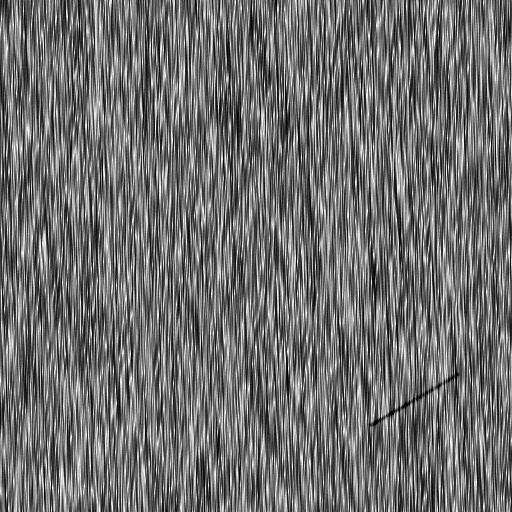DefectTypeC: (371, 370, 460, 425)
